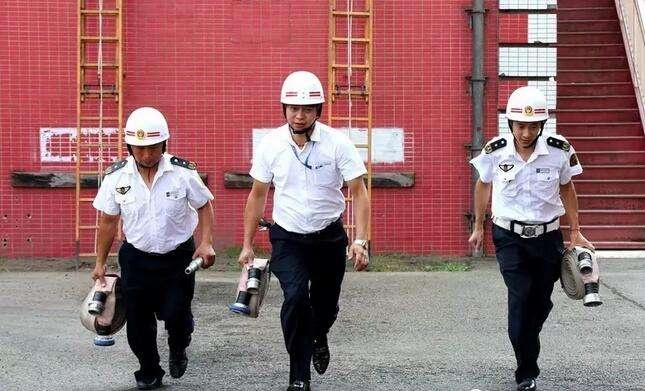white: (121, 104, 170, 168), (503, 83, 551, 148), (278, 69, 324, 132)
